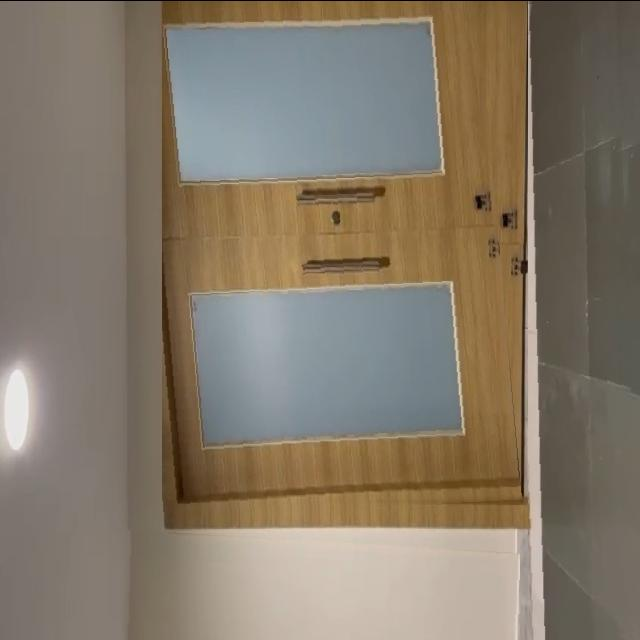door: (162, 0, 522, 517)
floor: (528, 0, 640, 640)
wall: (113, 528, 520, 640)
